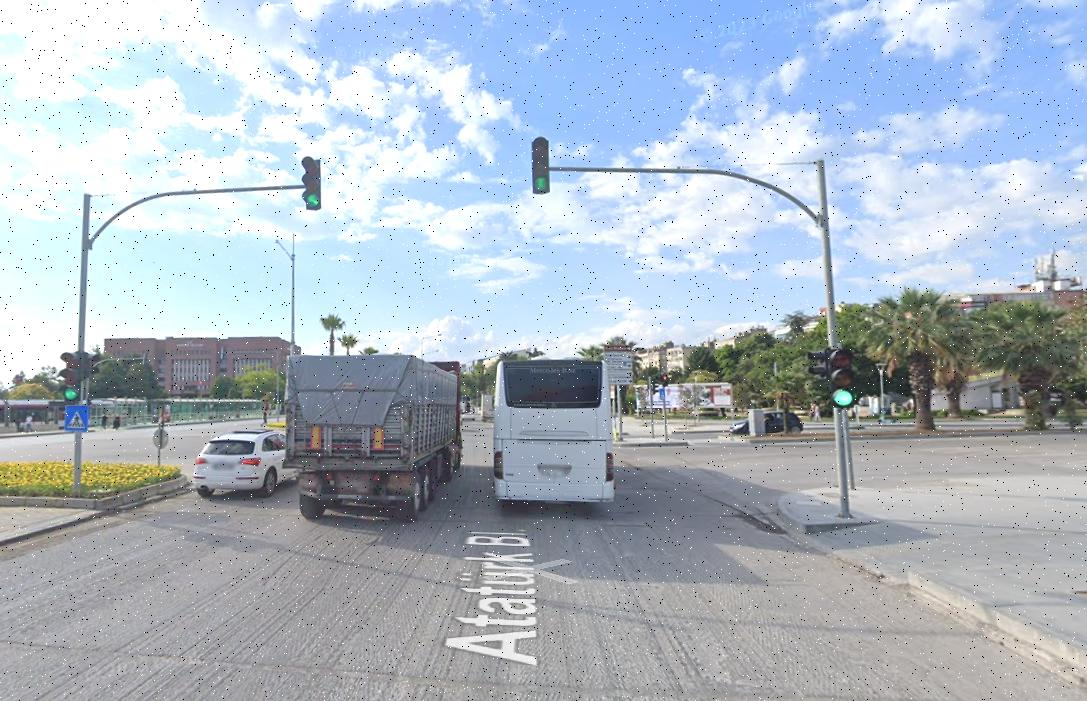greenlight: (828, 345, 859, 410), (529, 139, 551, 196), (58, 350, 82, 401), (302, 155, 321, 211)
